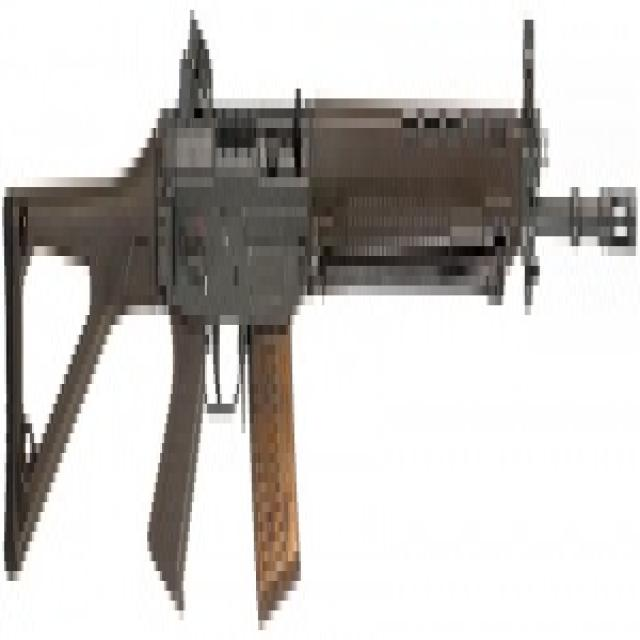rifle: (1, 1, 639, 631)
